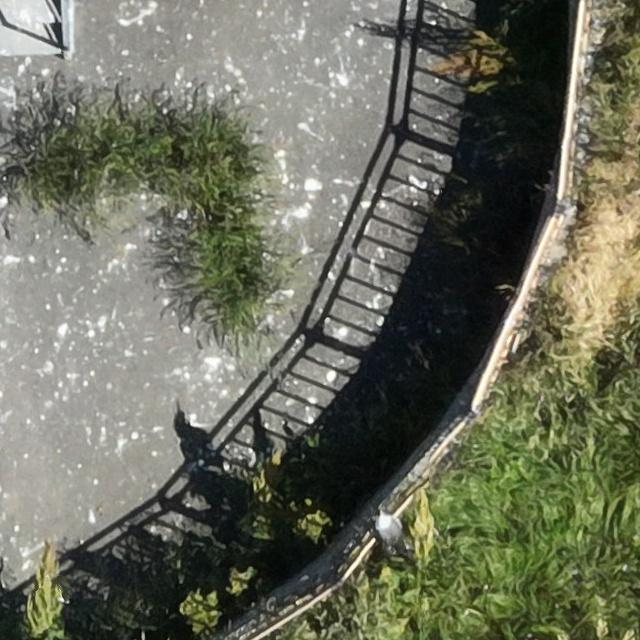umineko: (376, 510, 408, 550)
